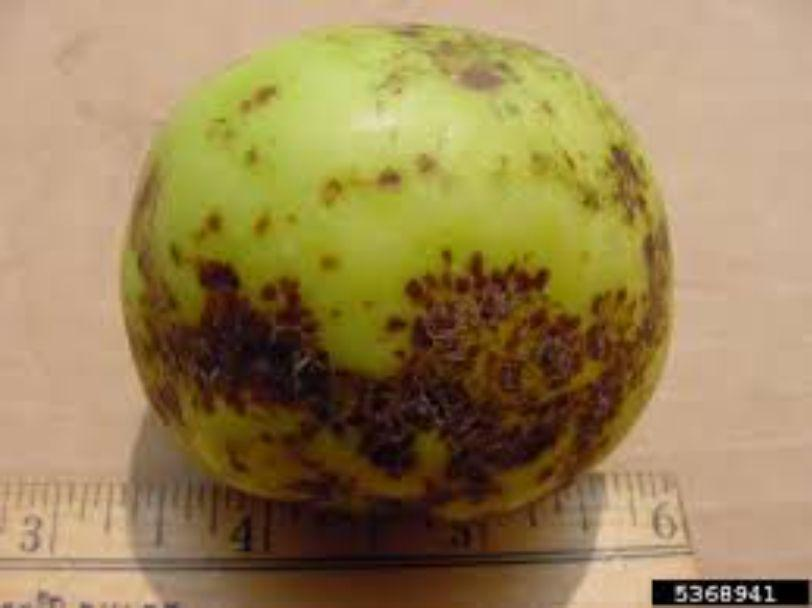BLOTCH: (90, 25, 723, 531)
